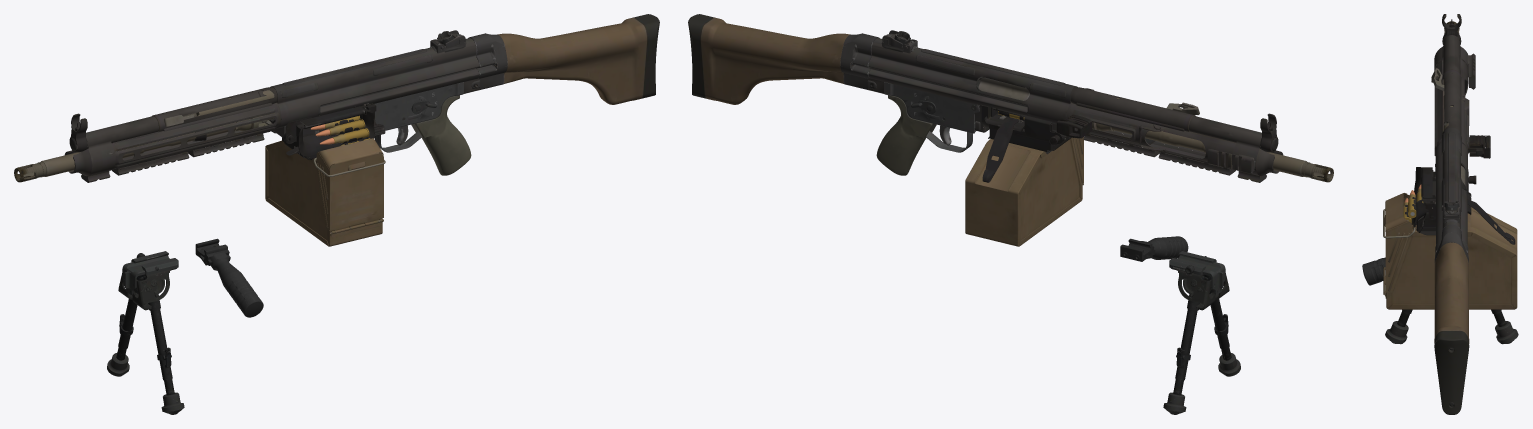
File: heckler__koch_hk21.glb
The picture shows the model from 3 angles, left to right: view 1: azimuth 30°, elevation 25°; view 2: azimuth 150°, elevation 25°; view 3: azimuth 270°, elevation 25°; orthographic projection.
Parts seen in each view (by area): view 1: Object_89, Object_83, Object_85, Object_97, Object_84, Object_91, Object_95, Object_93; view 2: Object_89, Object_83, Object_85, Object_97, Object_84, Object_91, Object_95, Object_100; view 3: Object_97, Object_85, Object_83, Object_89, Object_91, Object_95, Object_100, Object_93, Object_86.
Boxes of the visible parts, box(x1,y1,x2,y2) form: Object_89: box(41, 87, 281, 182); Object_83: box(269, 33, 494, 160); Object_85: box(468, 14, 659, 104); Object_97: box(265, 138, 385, 246); Object_84: box(374, 82, 471, 175); Object_91: box(107, 251, 184, 414); Object_95: box(195, 238, 263, 317); Object_93: box(310, 115, 370, 146); Object_89: box(1056, 87, 1306, 182); Object_83: box(854, 33, 1077, 154); Object_85: box(688, 14, 879, 104); Object_97: box(965, 137, 1083, 246); Object_84: box(876, 82, 979, 175); Object_91: box(1163, 251, 1240, 414); Object_95: box(1120, 236, 1188, 261); Object_100: box(982, 117, 1019, 182); Object_97: box(1383, 193, 1517, 309); Object_85: box(1434, 224, 1469, 414); Object_83: box(1413, 127, 1476, 244); Object_89: box(1431, 14, 1490, 158); Object_91: box(1385, 309, 1518, 344); Object_95: box(1362, 257, 1385, 285); Object_100: box(1467, 199, 1515, 244); Object_93: box(1403, 184, 1423, 222); Object_86: box(1441, 201, 1460, 218).
Size of the model in its own units: 14.23 by 6.24 by 2.98.
14 materials, 14 textured.
